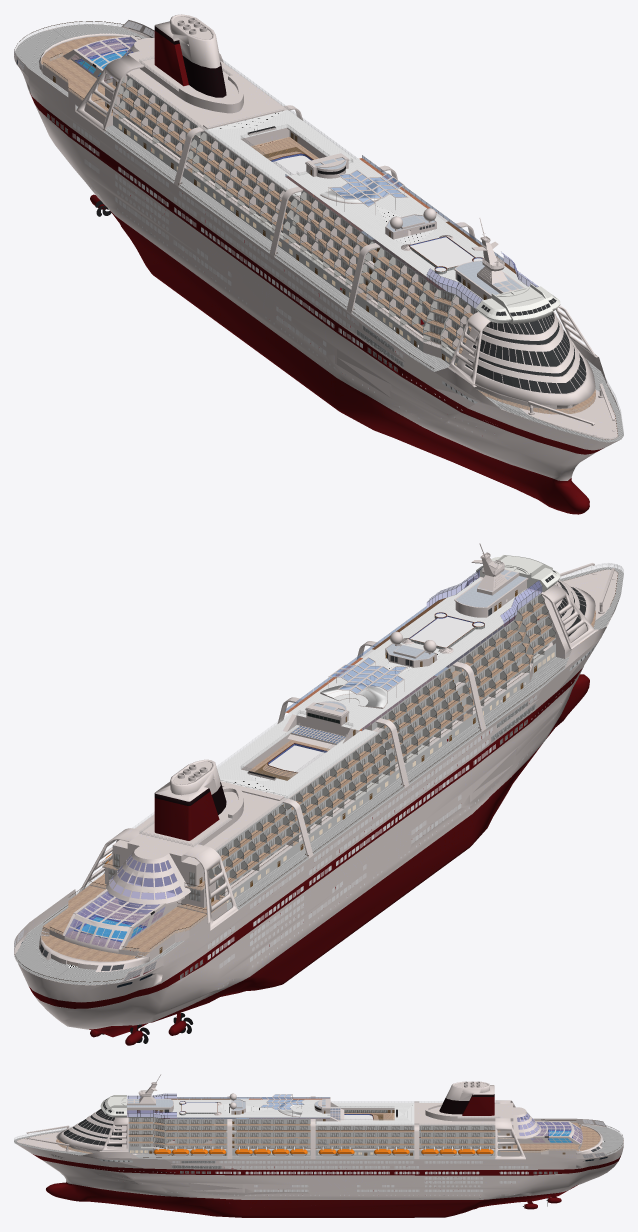
Rendered from cruiseship.1k.glb.
3 views of the same model, one above another, from view 1: azimuth 30°, elevation 25°; view 2: azimuth 150°, elevation 25°; view 3: azimuth 270°, elevation 25° (orthographic). The views are drawn at different scales.
Parts seen in each view (by area): view 1: SM_kryssningsfartyg.008, SM_kryssningsfartyg.022, Kryssningsfartyg_lägreSkrov.013, SM_kryssningsfartyg.006, SM_kryssningsfartyg.017, Kryssningsfartyg_lägreSkrov, SM_kryssningsfartyg.023; view 2: SM_kryssningsfartyg.008, SM_kryssningsfartyg.022, Kryssningsfartyg_lägreSkrov.013, SM_kryssningsfartyg.006, Kryssningsfartyg_lägreSkrov, SM_kryssningsfartyg.023; view 3: SM_kryssningsfartyg.008, SM_kryssningsfartyg.022, SM_kryssningsfartyg.006, Kryssningsfartyg_lägreSkrov.013, Kryssningsfartyg_lägreSkrov, SM_kryssningsfartyg.017, SM_kryssningsfartyg.023.
Boxes of the visible parts, box(x1,y1,x2,y2) form: SM_kryssningsfartyg.008: box(14, 14, 623, 514); SM_kryssningsfartyg.022: box(72, 61, 595, 435); Kryssningsfartyg_lägreSkrov.013: box(14, 24, 623, 442); SM_kryssningsfartyg.006: box(118, 78, 518, 365); SM_kryssningsfartyg.017: box(465, 298, 586, 393); Kryssningsfartyg_lägreSkrov: box(14, 21, 477, 403); SM_kryssningsfartyg.023: box(286, 158, 516, 290); SM_kryssningsfartyg.008: box(14, 563, 623, 1037); SM_kryssningsfartyg.022: box(89, 543, 595, 1045); Kryssningsfartyg_lägreSkrov.013: box(14, 567, 623, 985); SM_kryssningsfartyg.006: box(214, 594, 555, 902); Kryssningsfartyg_lägreSkrov: box(14, 644, 596, 980); SM_kryssningsfartyg.023: box(285, 598, 515, 730); SM_kryssningsfartyg.008: box(14, 1081, 623, 1217); SM_kryssningsfartyg.022: box(56, 1074, 561, 1209); SM_kryssningsfartyg.006: box(129, 1099, 494, 1154); Kryssningsfartyg_lägreSkrov.013: box(14, 1120, 623, 1159); Kryssningsfartyg_lägreSkrov: box(99, 1113, 605, 1195); SM_kryssningsfartyg.017: box(63, 1099, 123, 1146); SM_kryssningsfartyg.023: box(160, 1098, 329, 1118).
Size of the model in its own units: 44.42 by 72.28 by 314.
Materials: 29 (29 with a texture image).
